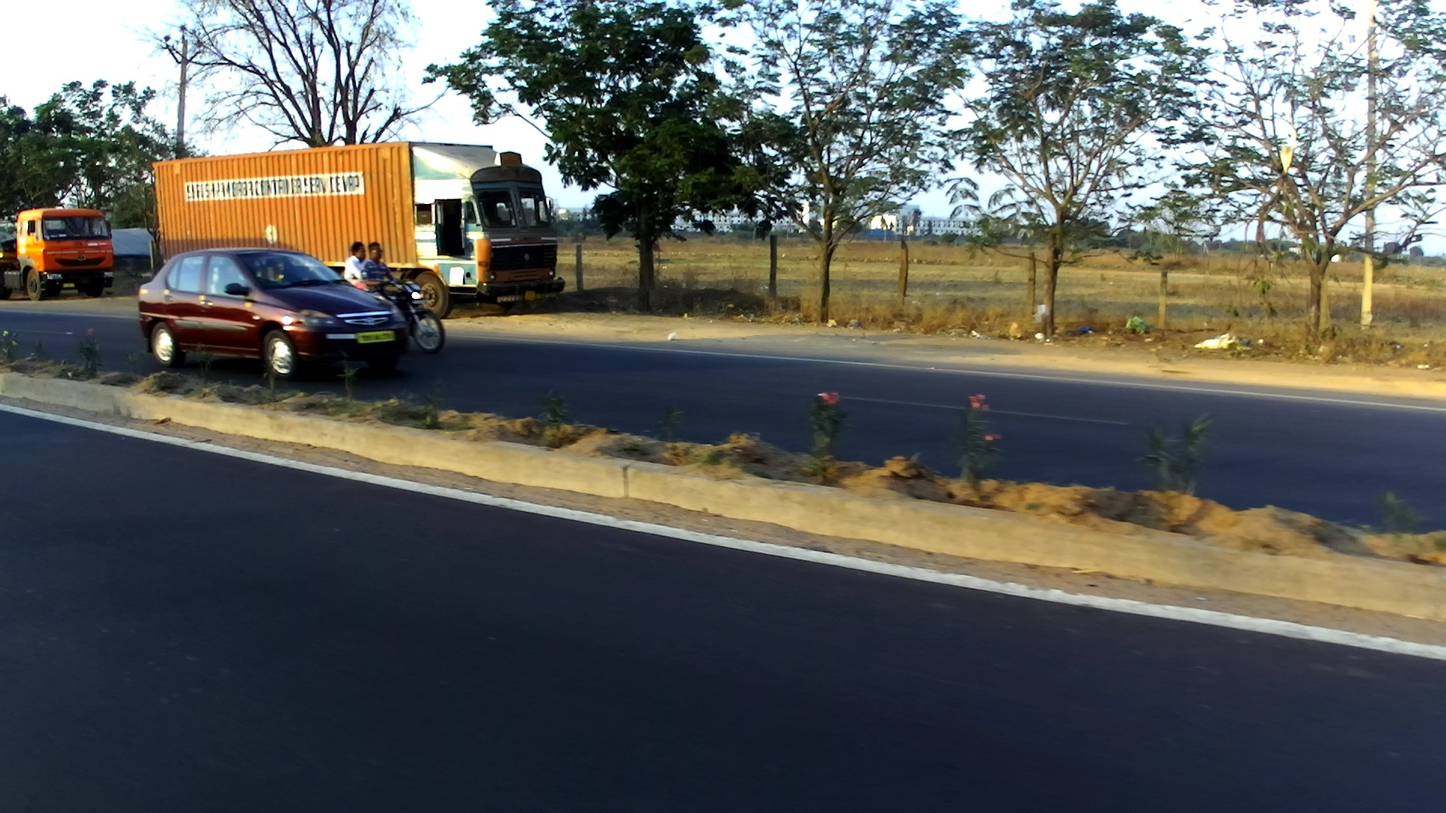car: (138, 248, 412, 380)
motorcycle: (361, 274, 447, 354)
rider: (358, 242, 403, 317), (340, 240, 371, 293)
truck: (153, 138, 566, 318), (1, 206, 115, 301)
